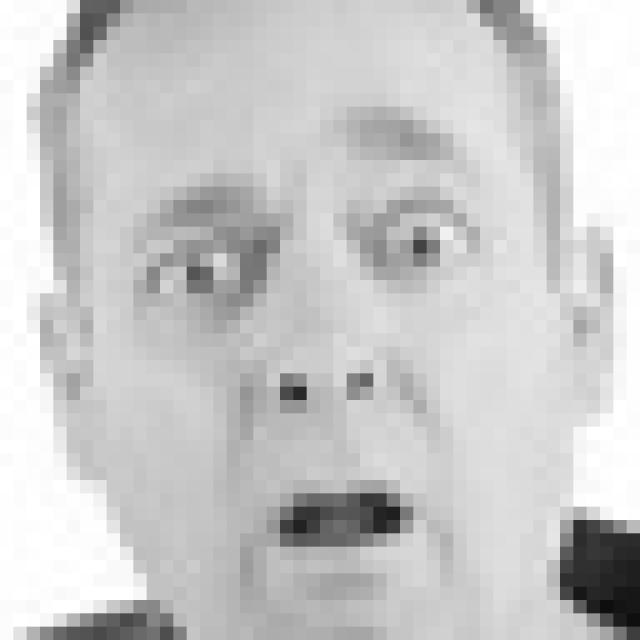surprise: (107, 111, 495, 566)
